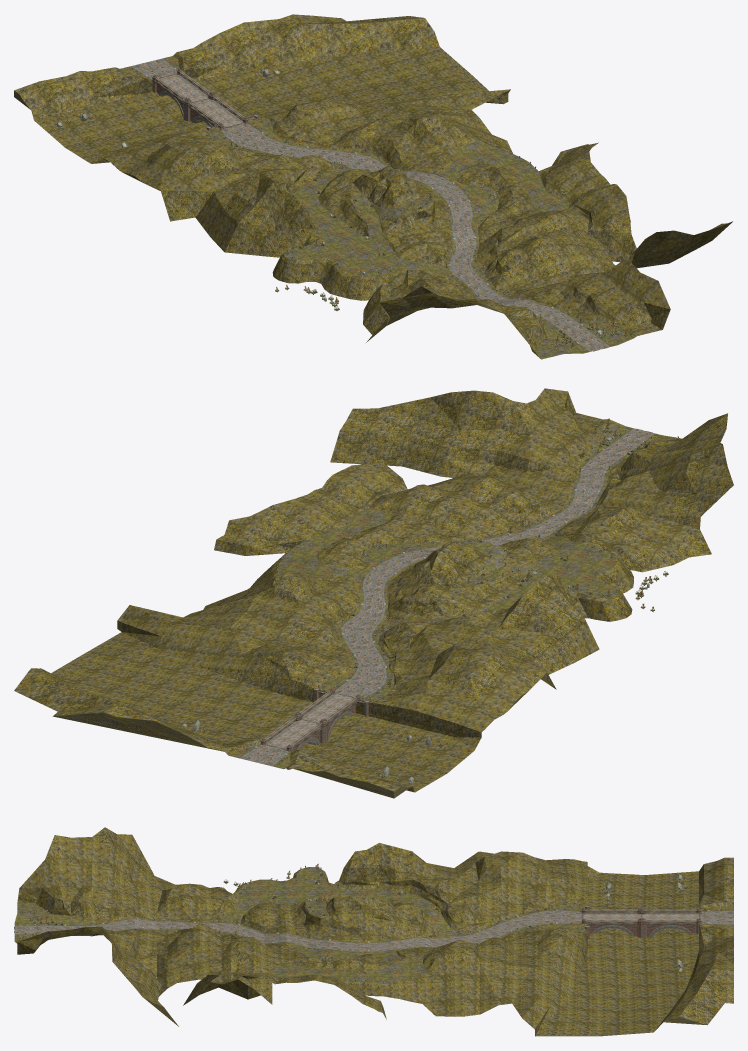
The model's file is NorthKreuzenHighway1.obj.
The picture shows the model from 3 angles, top to bottom: view 1: azimuth 30°, elevation 25°; view 2: azimuth 150°, elevation 25°; view 3: azimuth 270°, elevation 25°; orthographic projection. The views are drawn at different scales.
Parts seen in each view (by area): view 1: Object.1, Object.4, Object.7, Object.5, Object.10, Object.9, Object.2, Object.12, Object.11; view 2: Object.1, Object.4, Object.7, Object.10, Object.5, Object.9, Object.2, Object.12, Object.11; view 3: Object.1, Object.4, Object.7, Object.5, Object.10, Object.9, Object.12, Object.2, Object.13, Object.11.
Part boxes in pixels (<box>): Object.1: <box>34,47,732,349</box>; Object.4: <box>209,118,633,359</box>; Object.7: <box>14,14,433,110</box>; Object.5: <box>31,31,636,358</box>; Object.10: <box>134,59,608,351</box>; Object.9: <box>131,58,610,351</box>; Object.2: <box>65,68,628,347</box>; Object.12: <box>152,69,258,130</box>; Object.11: <box>152,70,258,127</box>; Object.1: <box>51,388,733,792</box>; Object.4: <box>276,419,681,702</box>; Object.7: <box>14,668,411,798</box>; Object.10: <box>243,428,652,765</box>; Object.5: <box>225,419,648,792</box>; Object.9: <box>239,428,654,766</box>; Object.2: <box>190,418,668,781</box>; Object.12: <box>260,687,369,769</box>; Object.11: <box>261,688,368,748</box>; Object.1: <box>17,827,698,1036</box>; Object.4: <box>14,867,586,983</box>; Object.7: <box>664,857,733,1025</box>; Object.5: <box>15,864,733,1030</box>; Object.10: <box>14,912,733,950</box>; Object.9: <box>14,910,733,951</box>; Object.12: <box>581,905,701,937</box>; Object.2: <box>20,863,723,965</box>; Object.13: <box>582,907,700,938</box>; Object.11: <box>583,905,700,927</box>.
Bounding box in the file's own units: 142 × 29.56 × 267.
Materials: 13 (13 with a texture image).
